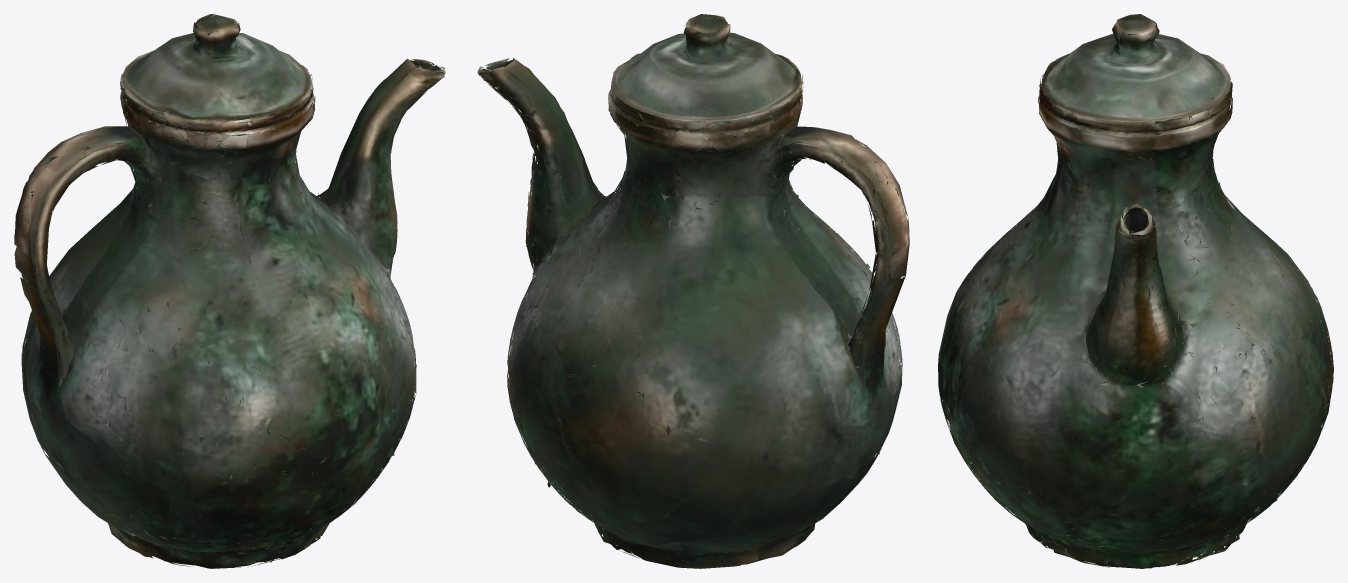
File: wine_pot.glb
3 renders of one model, left to right at view 1: azimuth 30°, elevation 25°; view 2: azimuth 150°, elevation 25°; view 3: azimuth 270°, elevation 25°, orthographic.
Parts seen in each view (by area): view 1: geometry_0; view 2: geometry_0; view 3: geometry_0.
Boxes of the visible parts, x1,y1,x2,y2 form: geometry_0: (14, 14, 445, 568); geometry_0: (477, 14, 909, 568); geometry_0: (938, 14, 1333, 568).
Bounding box in the file's own units: 0.2832 × 0.3207 × 0.2287.
Materials: 1 (1 with a texture image).
